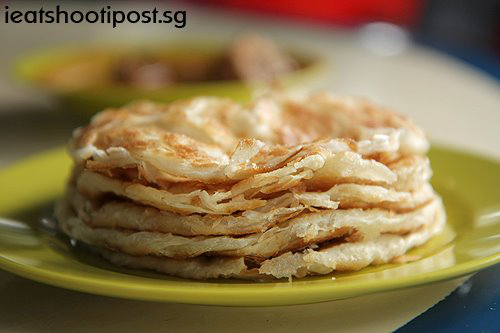Prata: (60, 93, 456, 283)
